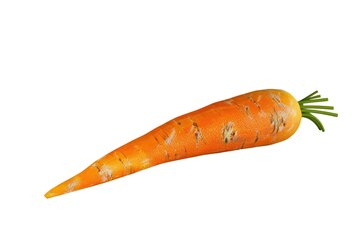carrot: (42, 64, 316, 208)
